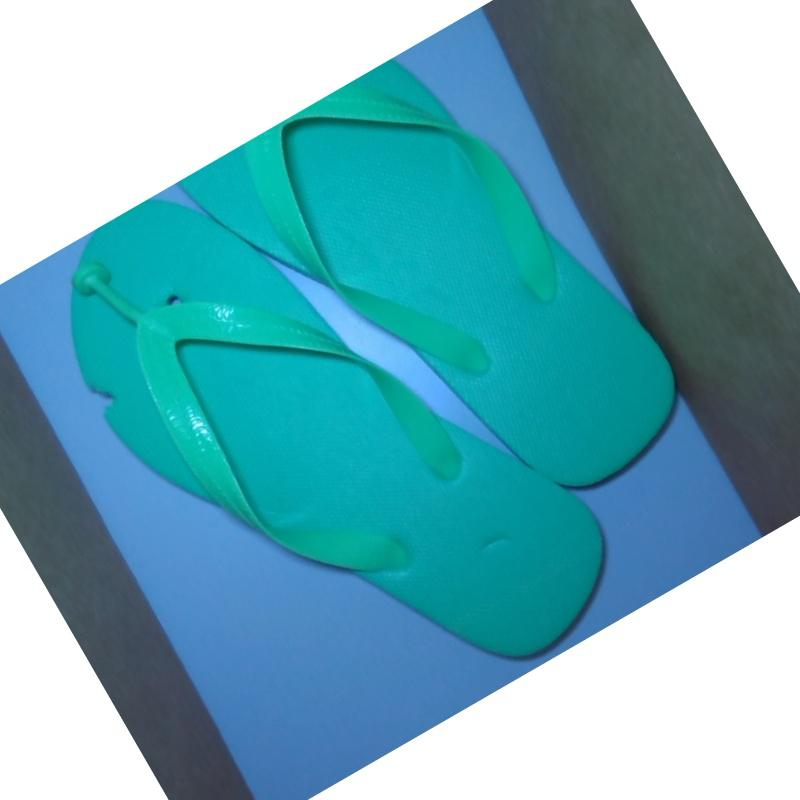chipped: (75, 370, 130, 432)
detached: (64, 256, 127, 320)
